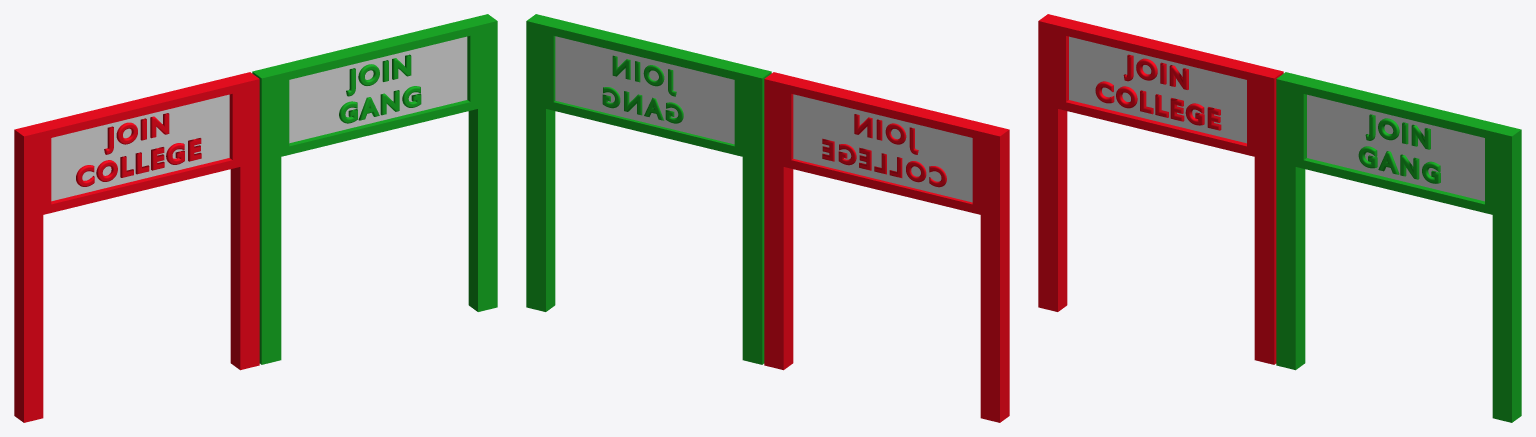
Rendered from GANG_COLLEGE (1).fbx.
The picture shows the model from 3 angles, left to right: view 1: azimuth 30°, elevation 25°; view 2: azimuth 150°, elevation 25°; view 3: azimuth 330°, elevation 25°; orthographic projection.
Visible parts, largest first — view 1: COLLEGE GATE, GANG GATE; view 2: COLLEGE GATE, GANG GATE; view 3: GANG GATE, COLLEGE GATE.
Boxes of the visible parts, left/top/right/bottom form: COLLEGE GATE: left=14, top=72, right=259, bottom=422; GANG GATE: left=252, top=14, right=497, bottom=364; COLLEGE GATE: left=764, top=72, right=1009, bottom=422; GANG GATE: left=526, top=14, right=771, bottom=364; GANG GATE: left=1276, top=72, right=1521, bottom=422; COLLEGE GATE: left=1038, top=14, right=1283, bottom=364.
Bounding box in the file's own units: 1974 × 1141 × 68.85.
